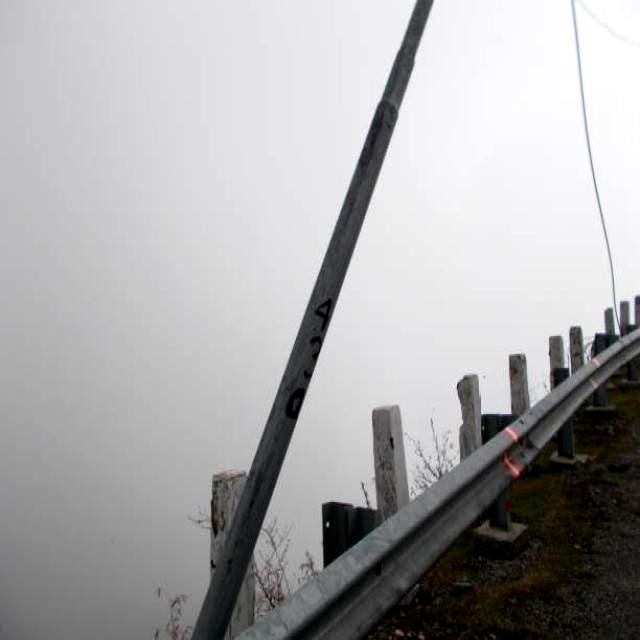Broken Pole: (188, 0, 435, 640)
